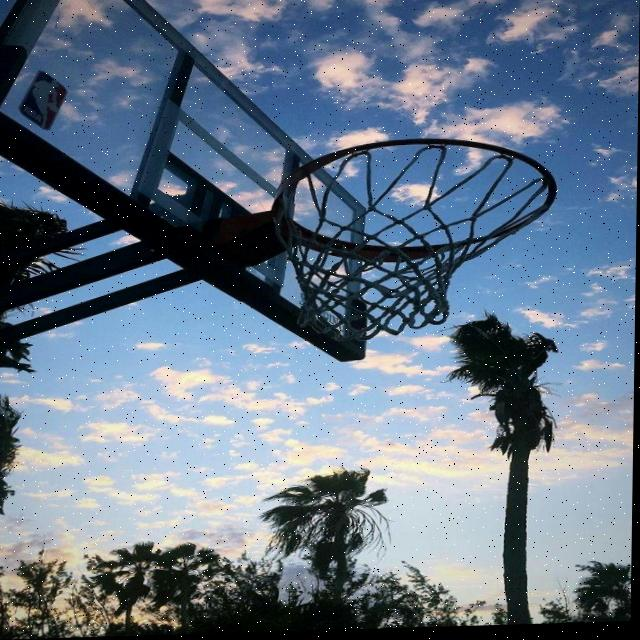hoop: (206, 147, 547, 328)
